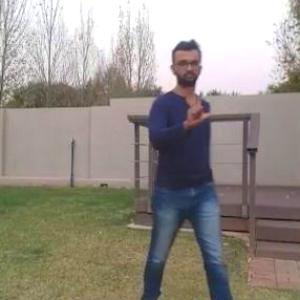land_hand: (183, 81, 215, 128)
